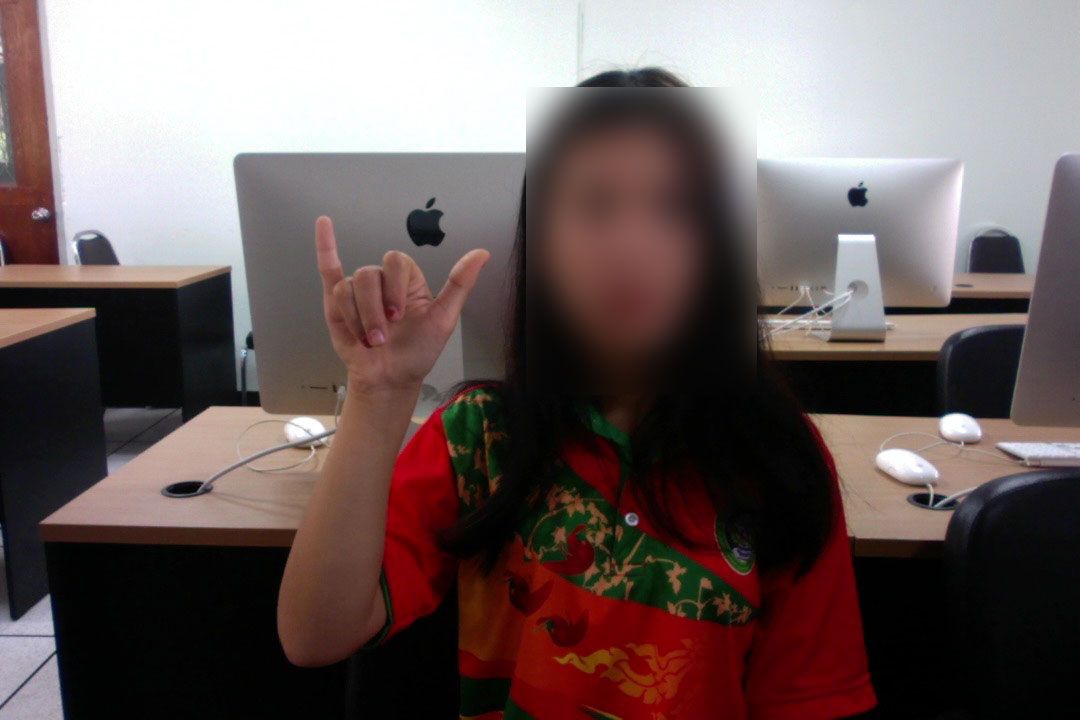yor: (303, 210, 503, 398)
